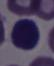D: (11, 18, 41, 52)
